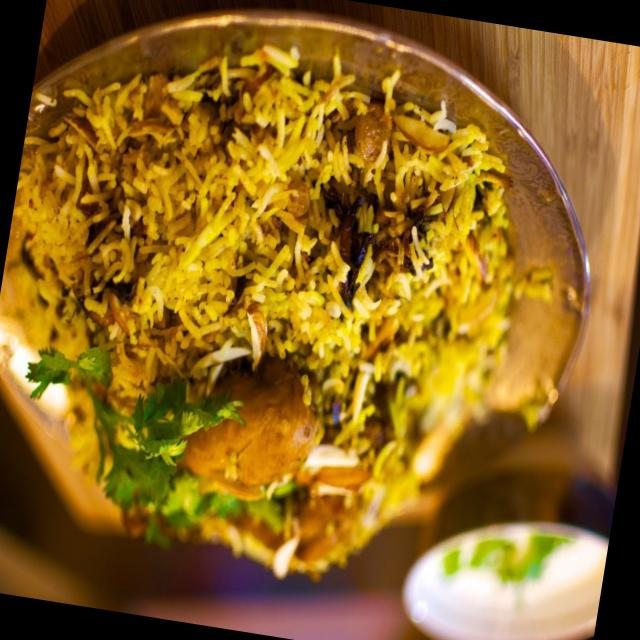Biryani: (0, 11, 548, 608)
